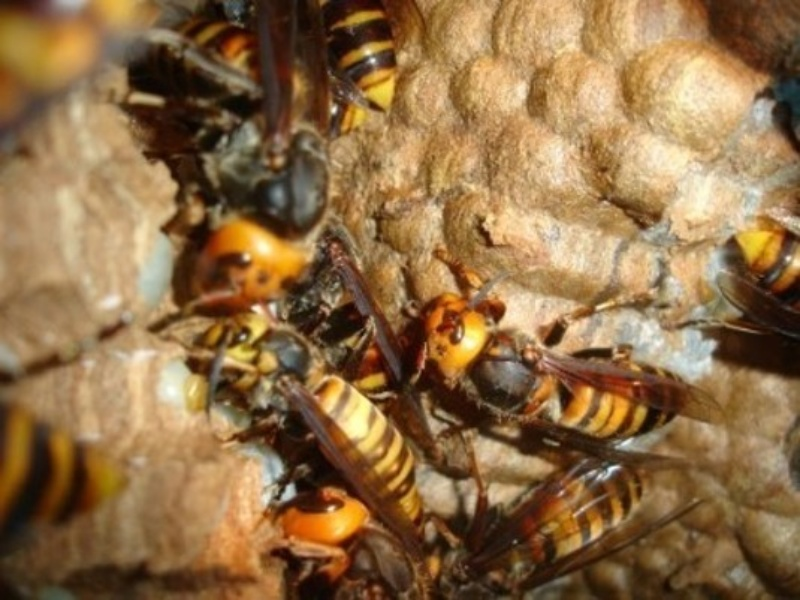asian_giant_hornet: (194, 312, 431, 540), (166, 2, 336, 309), (416, 282, 698, 444), (441, 459, 667, 600), (268, 483, 431, 600), (721, 210, 800, 338), (323, 2, 404, 117)
